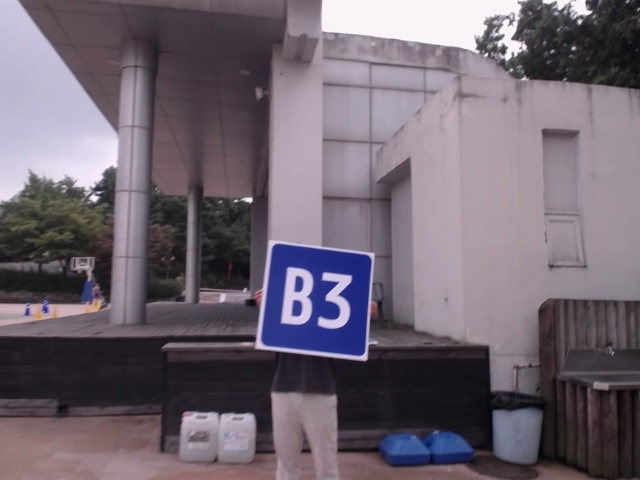delivery_b3: (260, 242, 374, 358)
